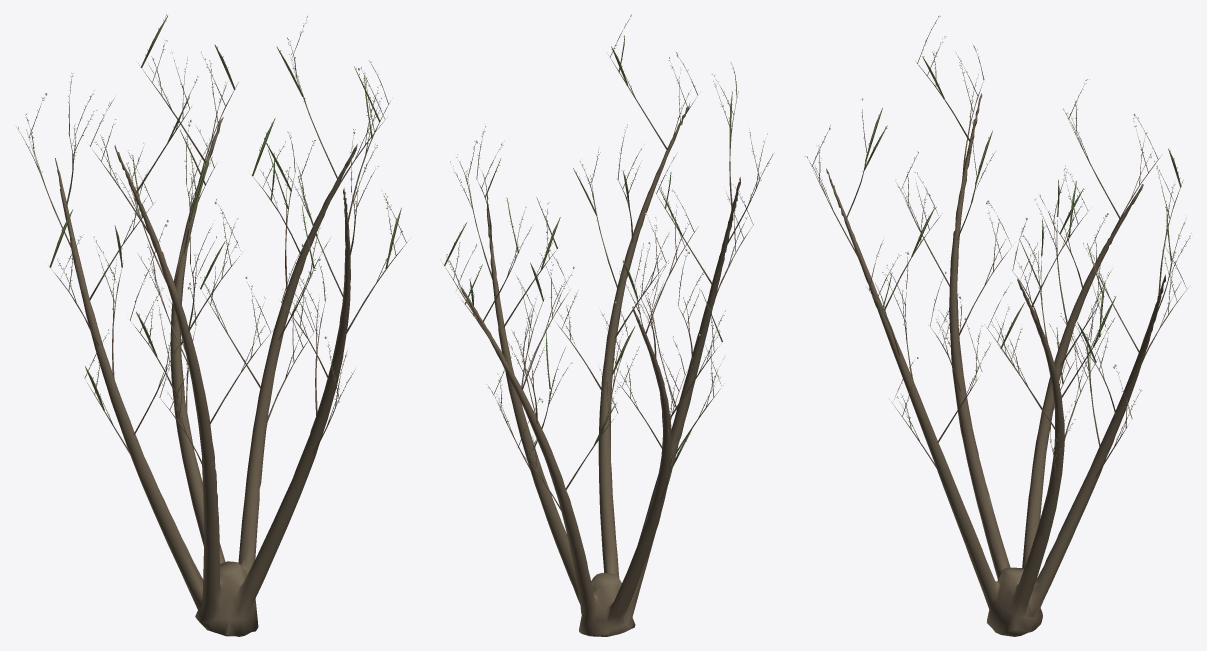
Rendered from Bruyere_0_Niveau0.fbx.
3 views of the same model, side by side, from view 1: azimuth 30°, elevation 25°; view 2: azimuth 150°, elevation 25°; view 3: azimuth 270°, elevation 25° (orthographic). The views are drawn at different scales.
Visible parts, largest first — view 1: Bruyere_0_Niveau0; view 2: Bruyere_0_Niveau0; view 3: Bruyere_0_Niveau0.
Part boxes in pixels (bbox=[...]): Bruyere_0_Niveau0: bbox=[18, 14, 408, 636]; Bruyere_0_Niveau0: bbox=[440, 14, 773, 636]; Bruyere_0_Niveau0: bbox=[805, 15, 1190, 636].
Bounding box in the file's own units: 84.1 × 157 × 97.49.
